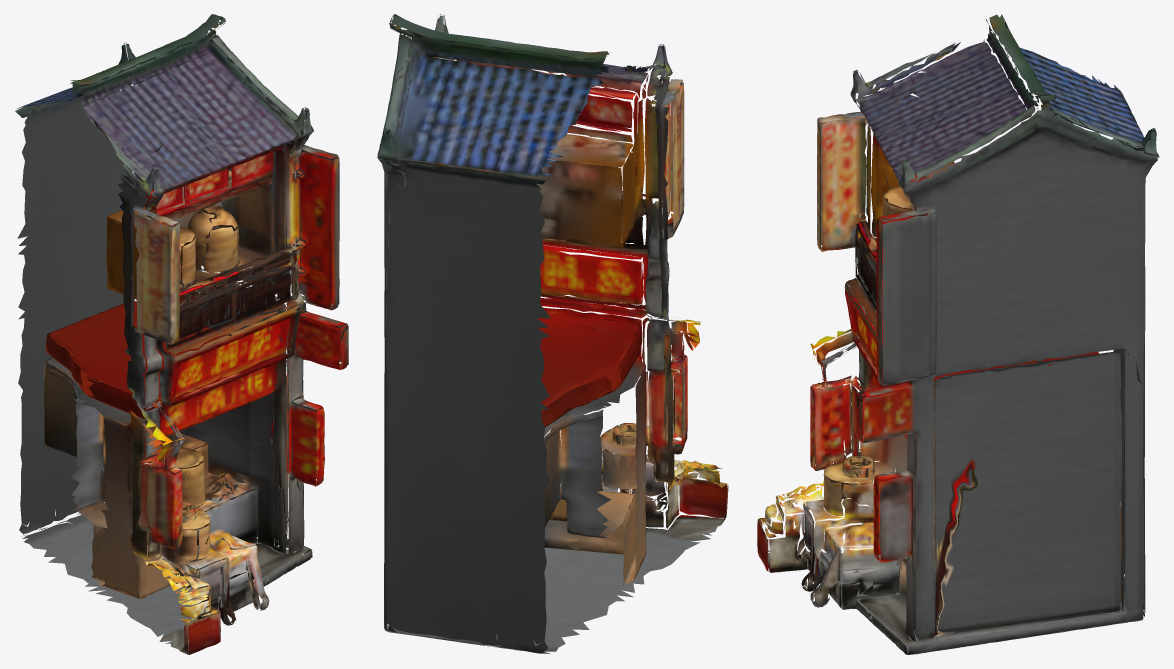
File: Chinatown_House_7.obj
The picture shows the model from 3 angles, left to right: view 1: azimuth 30°, elevation 25°; view 2: azimuth 150°, elevation 25°; view 3: azimuth 270°, elevation 25°; orthographic projection. The views are drawn at different scales.
Parts seen in each view (by area): view 1: model; view 2: model; view 3: model.
Part boxes in pixels (<box>): model: <box>15,14,348,654</box>; model: <box>377,14,728,653</box>; model: <box>757,14,1159,654</box>.
Bounding box in the file's own units: 0.1873 × 0.4129 × 0.275.
1 material, 1 textured.
